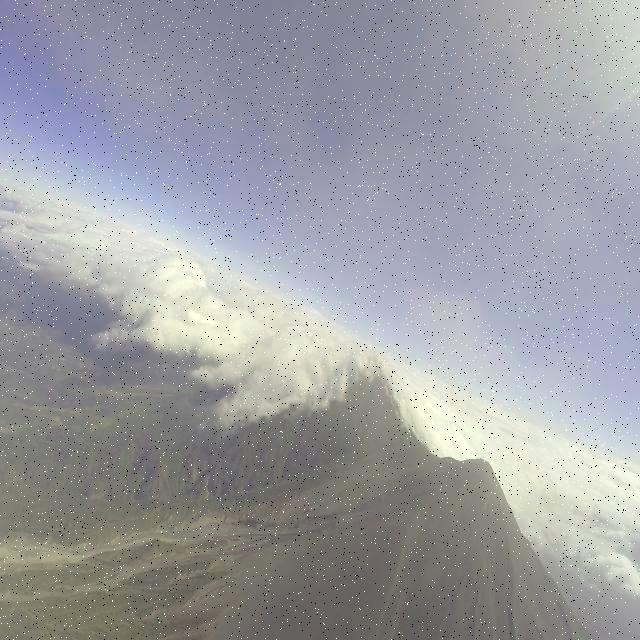Summit: (442, 452, 511, 516)
